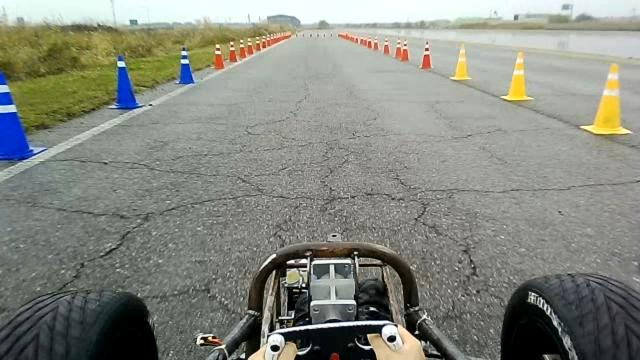blue cone: (0, 70, 47, 161), (107, 55, 144, 109), (174, 46, 196, 85)
red cone: (212, 40, 227, 73), (419, 40, 433, 70), (229, 38, 240, 64), (400, 38, 410, 62)
yellow cone: (579, 62, 633, 135), (499, 50, 534, 102), (450, 42, 472, 81)
